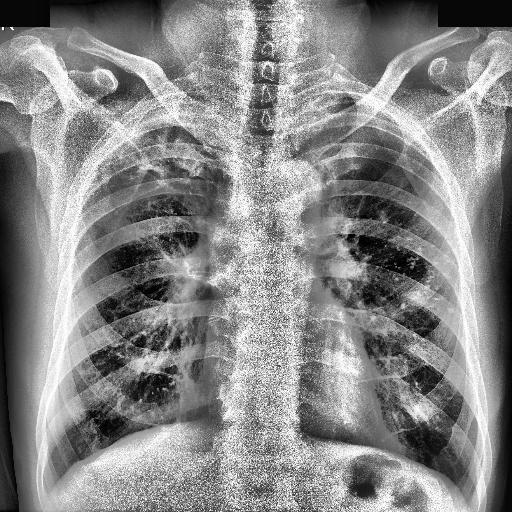0- Aortic enlargement: (265, 158, 324, 224)
11- Pleural thickening: (116, 134, 204, 225), (106, 86, 226, 150), (124, 90, 244, 132)
13- Pulmonary fibrosis: (368, 185, 460, 317), (368, 188, 452, 328), (370, 201, 460, 315), (116, 134, 204, 225), (134, 311, 190, 421), (124, 153, 210, 224), (134, 150, 212, 225)
2- Calcification: (370, 201, 460, 315), (116, 134, 204, 225)
7- Lung Opacity: (124, 90, 244, 132)
8- Nodule-Mass: (368, 185, 460, 317)
